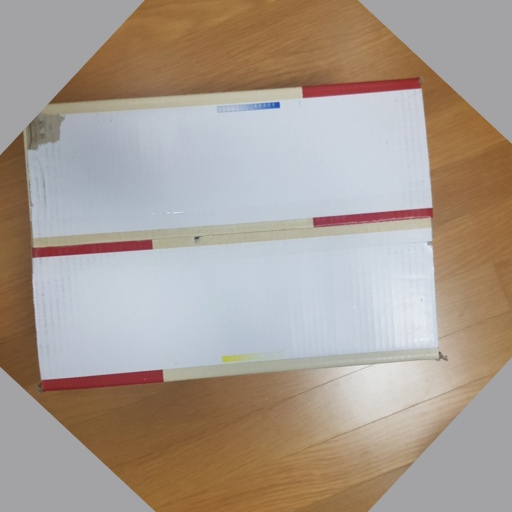Paper_0: (8, 79, 453, 387)
